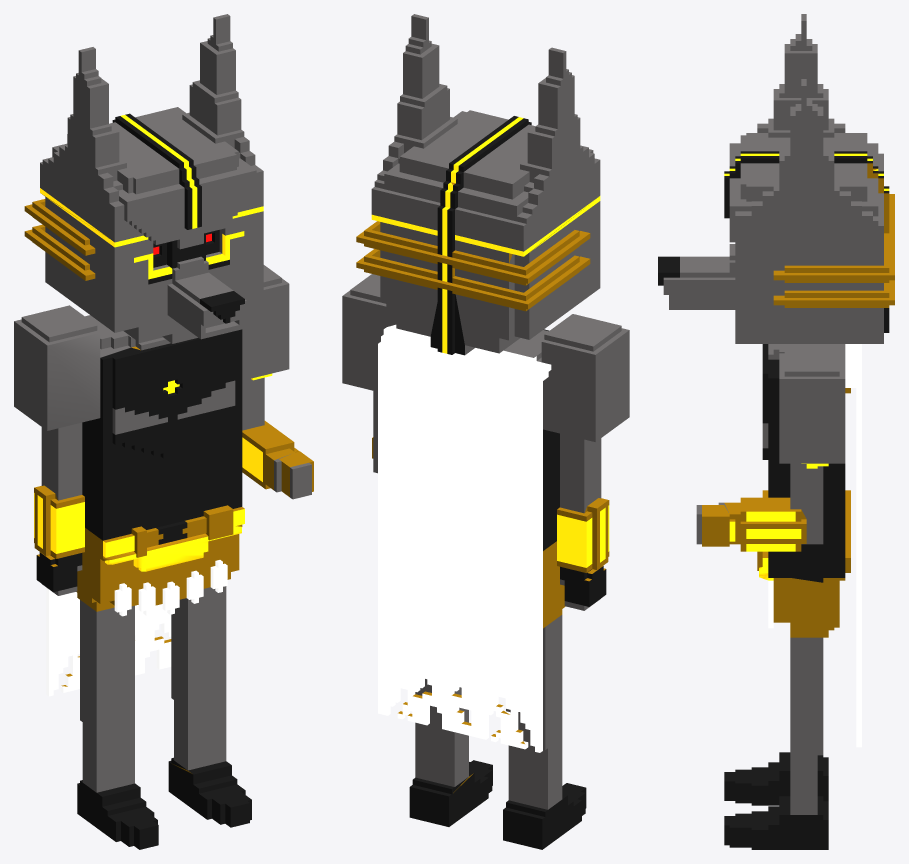
Rendered from anubis.glb.
3 renders of one model, left to right at view 1: azimuth 30°, elevation 25°; view 2: azimuth 150°, elevation 25°; view 3: azimuth 270°, elevation 25°, orthographic. The views are drawn at different scales.
Parts seen in each view (by area): view 1: anubis.001; view 2: anubis.001; view 3: anubis.001.
Boxes of the visible parts, bbox=[...] form: anubis.001: bbox=[14, 14, 313, 849]; anubis.001: bbox=[342, 14, 629, 849]; anubis.001: bbox=[658, 14, 894, 849].
Size of the model in its own units: 4.71 by 14.23 by 3.97.
